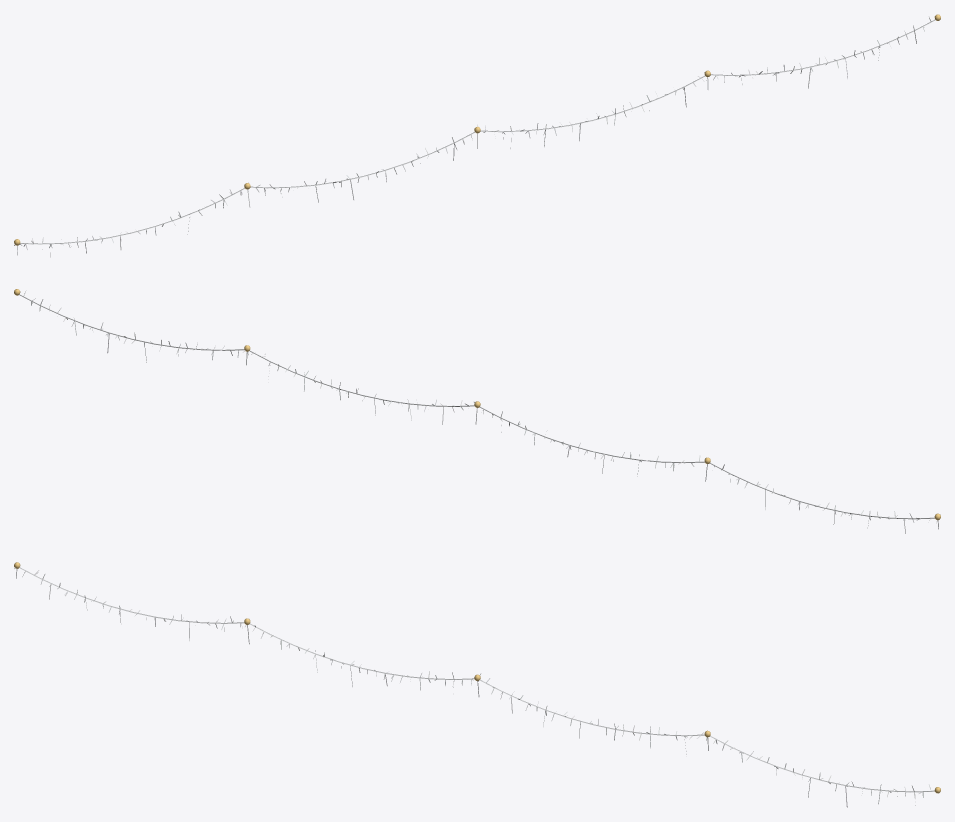
File: prop_schmuck_tinsel_3.glb
3 renders of one model, top to bottom at view 1: azimuth 30°, elevation 25°; view 2: azimuth 150°, elevation 25°; view 3: azimuth 330°, elevation 25°, orthographic.
Parts seen in each view (by area): view 1: tinsel_1_mesh; view 2: tinsel_1_mesh; view 3: tinsel_1_mesh.
Boxes of the visible parts, x1,y1,x2,y2 form: tinsel_1_mesh: [14, 17, 935, 257]; tinsel_1_mesh: [19, 291, 940, 533]; tinsel_1_mesh: [14, 567, 934, 807].
Bounding box in the file's own units: 3.82 × 0.1713 × 0.0585.
